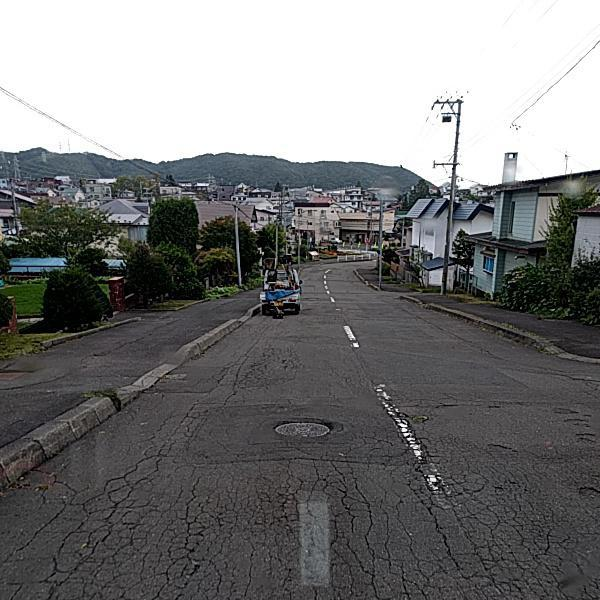D20: (38, 352, 599, 599)
D44: (375, 387, 448, 502)
D50: (272, 419, 330, 437)
